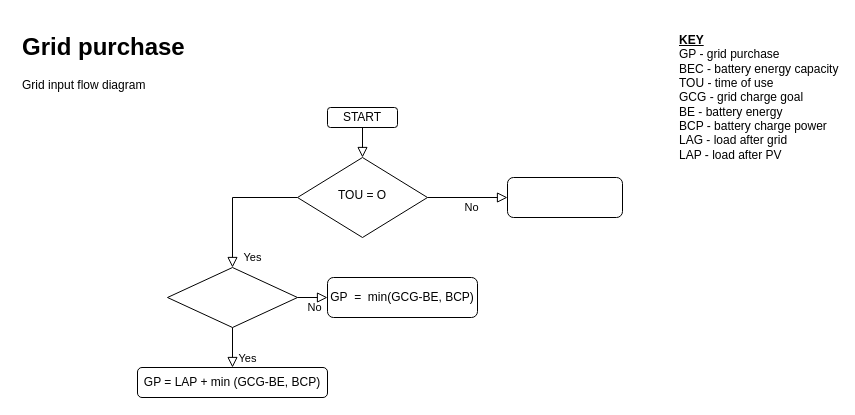
The diagram is 855 pixels wide and 415 high, and some of its shapes have lost their labels. Each missing label, with the centre of its shape:
"GP = 0" belongs at (x=564, y=197).
"LAP > 0" belongs at (x=232, y=297).
